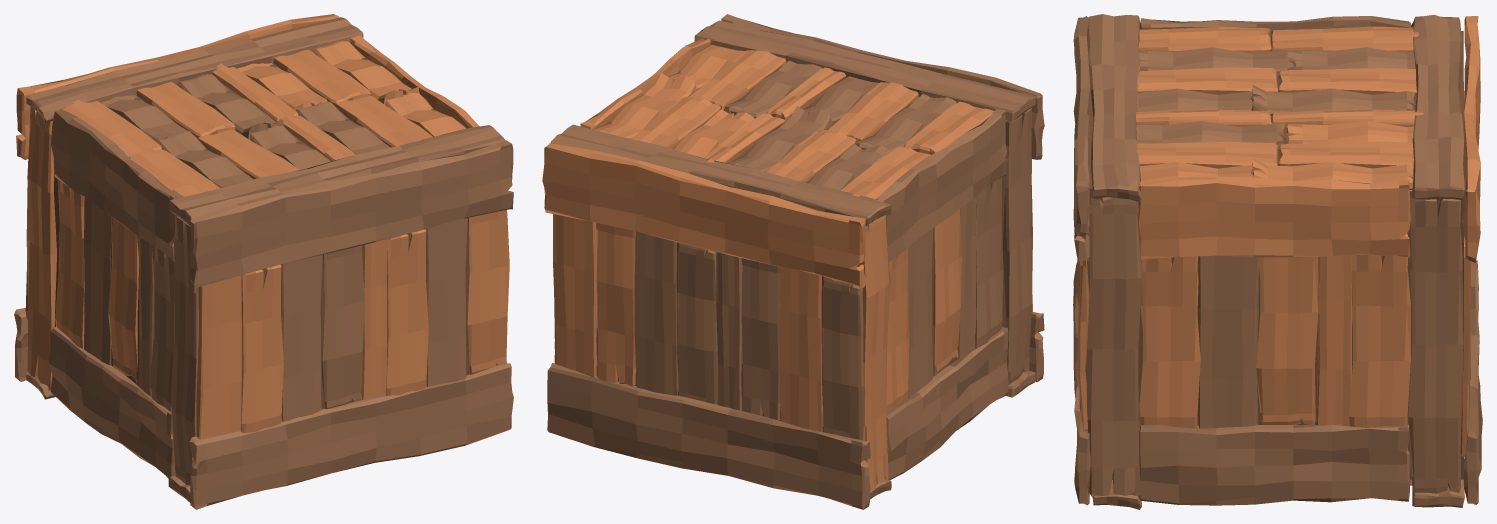
3 renders of one model, left to right at view 1: azimuth 30°, elevation 25°; view 2: azimuth 150°, elevation 25°; view 3: azimuth 270°, elevation 25°, orthographic. The views are drawn at different scales.
Visible parts, largest first — view 1: LP Box; view 2: LP Box; view 3: LP Box.
Boxes of the visible parts, x1,y1,x2,y2 form: LP Box: (14,14,513,509); LP Box: (542,14,1044,509); LP Box: (1073,14,1482,509).
Bounding box in the file's own units: 83.83 × 73.36 × 82.54.
